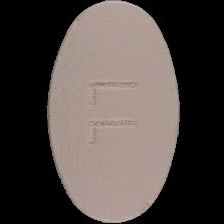53808-0790: (0, 0, 224, 224)
